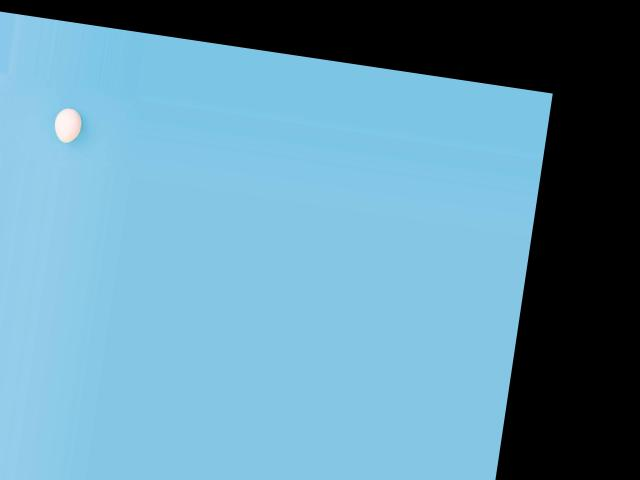egg: (52, 106, 83, 144)
